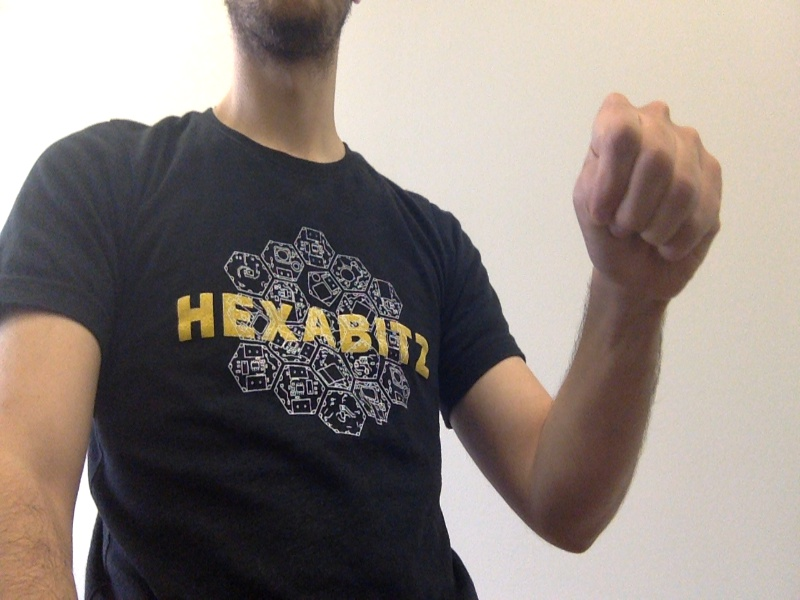0-hand: (573, 94, 732, 286)
